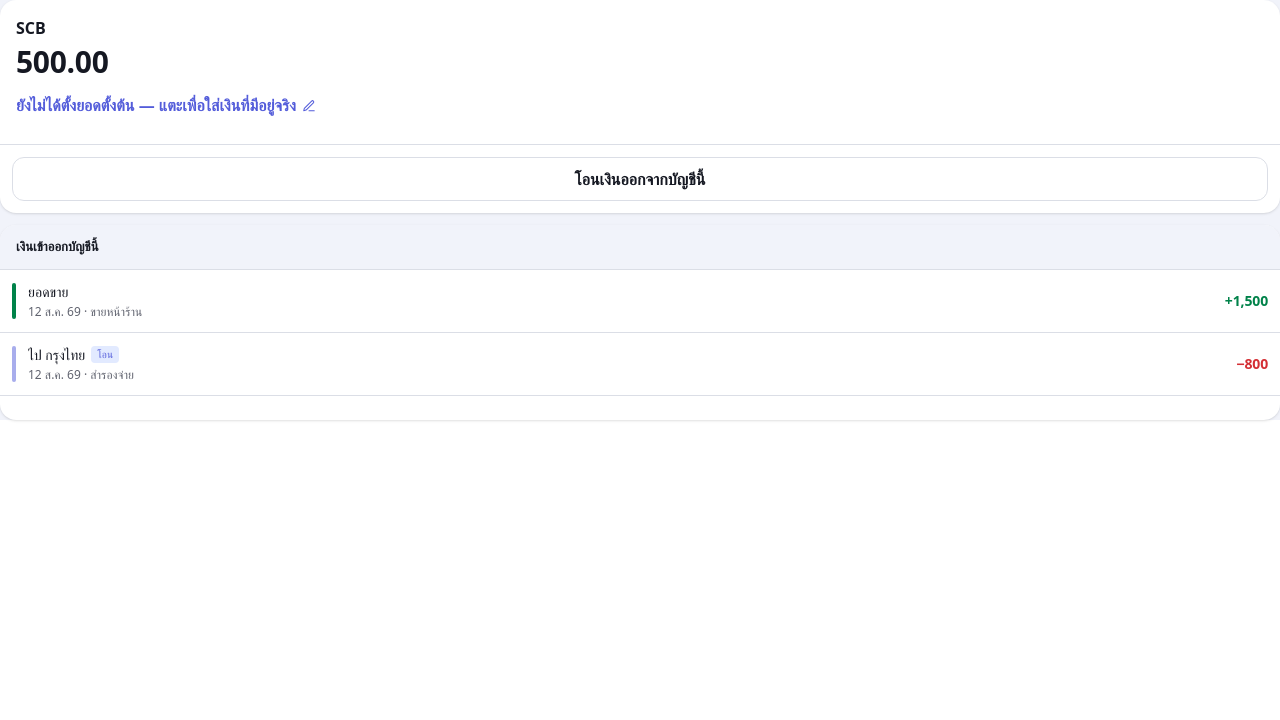
ปุ่มที่ต้องหาเจอจากหน้านี้ › กดแล้วฟอร์มโอนเลือกบัญชีนี้เป็นต้นทางให้เลย
Click the button "โอนเงินออกจากบัญชีนี้" at (640, 179), box [12,157,1268,201]
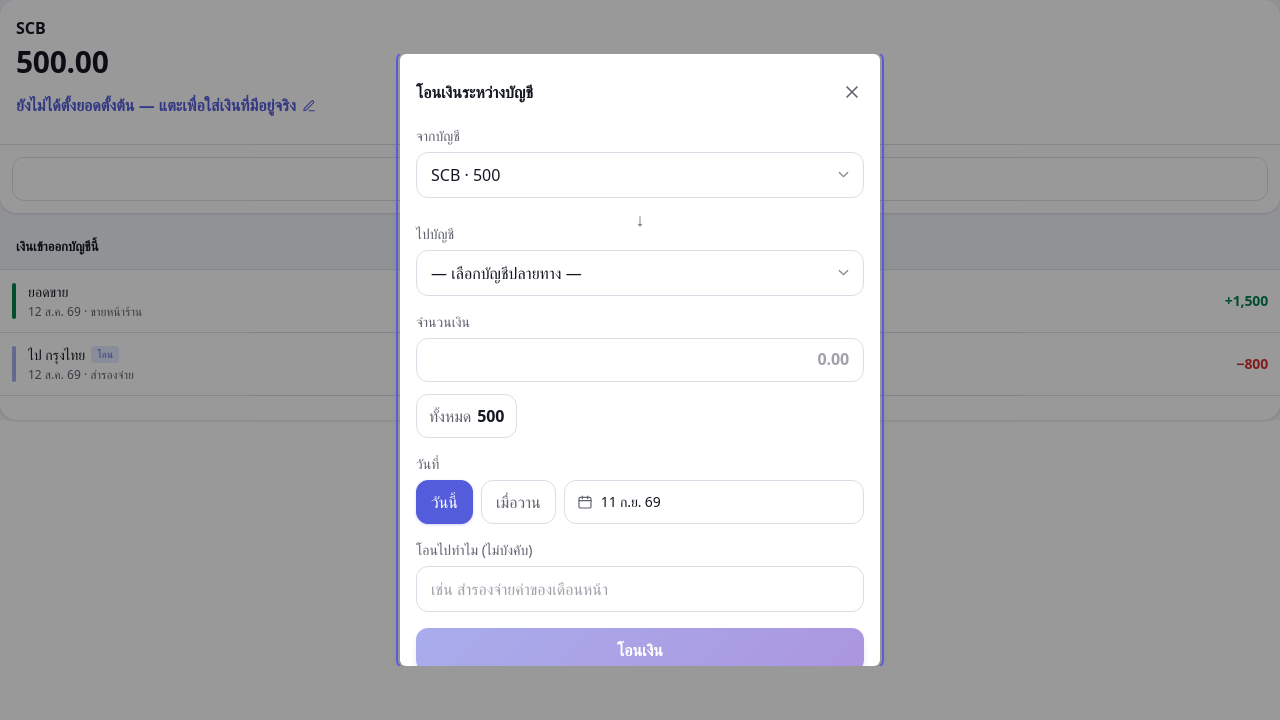
Expected: the dropdown labelled "จากบัญชี" shows "SCB · 500", [416,152,864,198]
